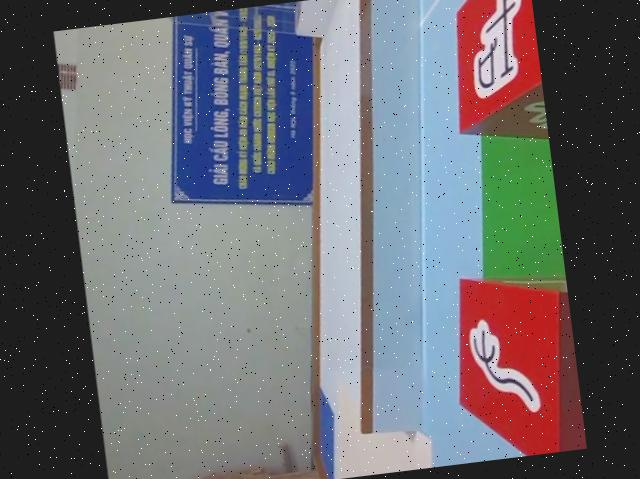R2 Real: (438, 253, 587, 464), (437, 0, 549, 154)
